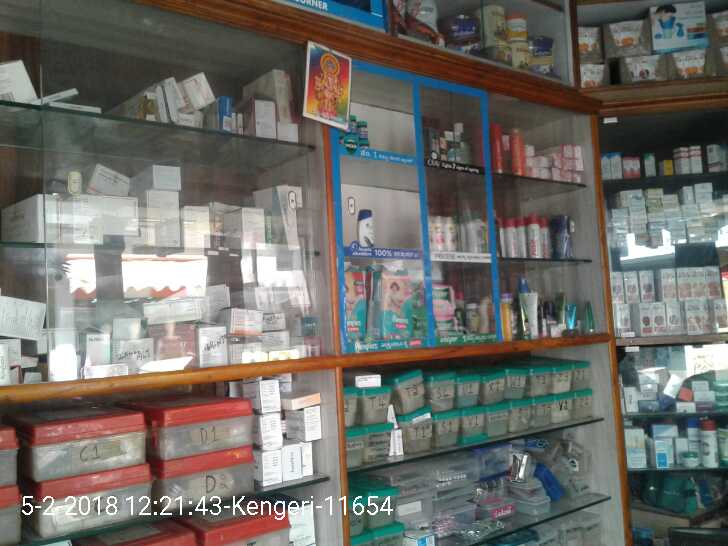beauty: (356, 204, 380, 251)
pharmacy: (336, 266, 371, 347), (380, 273, 422, 340), (434, 281, 465, 335), (343, 109, 373, 149)
